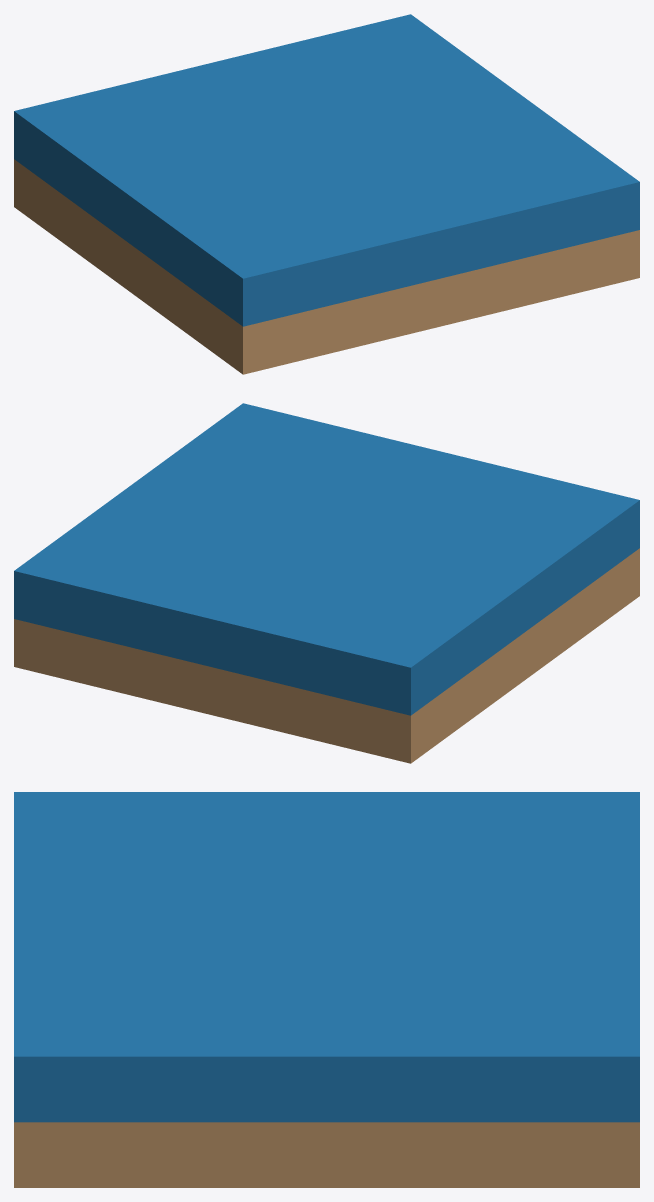
The model's file is tile.fbx.
The picture shows the model from 3 angles, top to bottom: view 1: azimuth 30°, elevation 25°; view 2: azimuth 150°, elevation 25°; view 3: azimuth 270°, elevation 25°; orthographic projection. The views are drawn at different scales.
Parts seen in each view (by area): view 1: Ocean; view 2: Ocean; view 3: Ocean.
Part boxes in pixels (bbox=[...]): Ocean: bbox=[14, 14, 639, 374]; Ocean: bbox=[14, 403, 639, 763]; Ocean: bbox=[14, 792, 639, 1187].
Bounding box in the file's own units: 200 × 46.23 × 200.
1 material, 1 textured.
